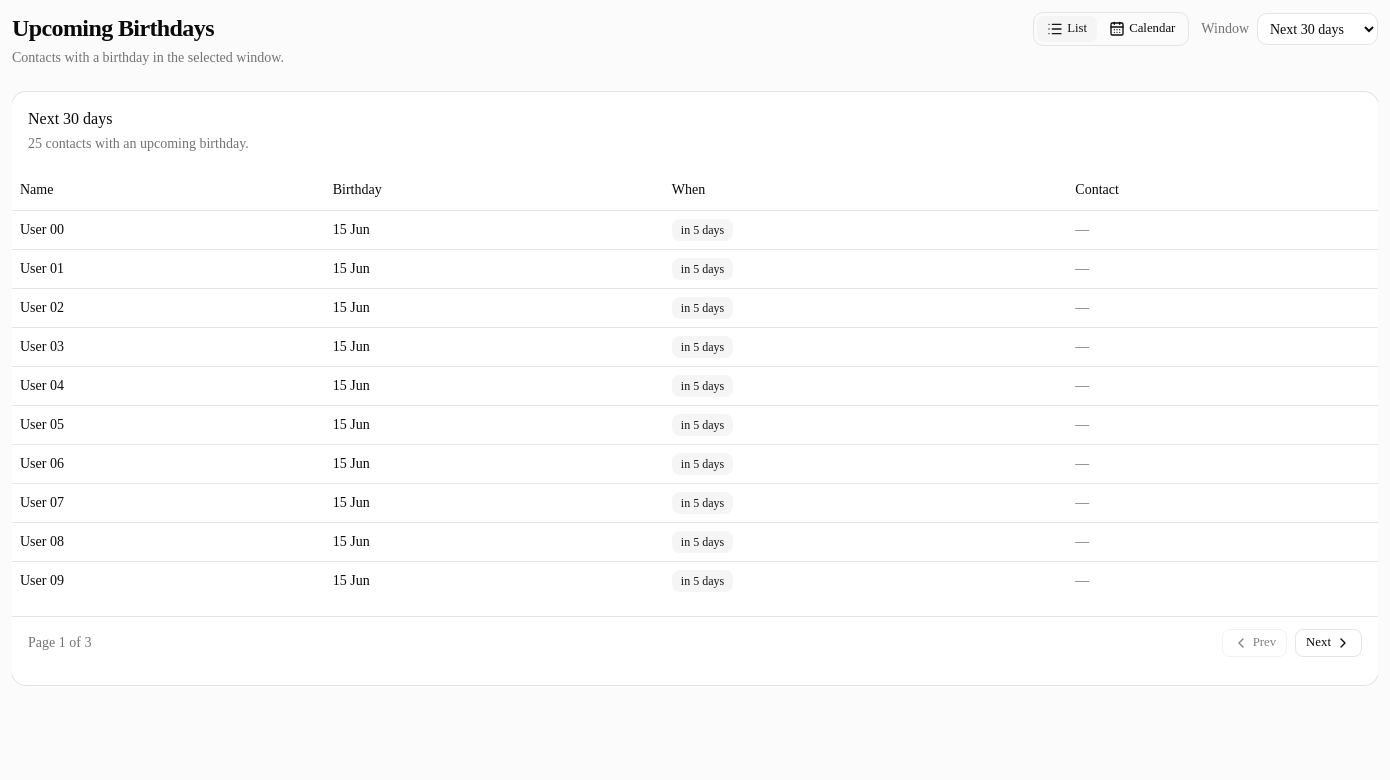
it: HomePage pagination controls › shows 'Page X of Y' and walks through pages via cursor
Expected: the text "Page 1 of 3" is shown, top-left (28, 632), bottom-right (91, 652)
Click the button with aria-label "next page" at [1329, 642], box top-left (1295, 628), bottom-right (1362, 656)
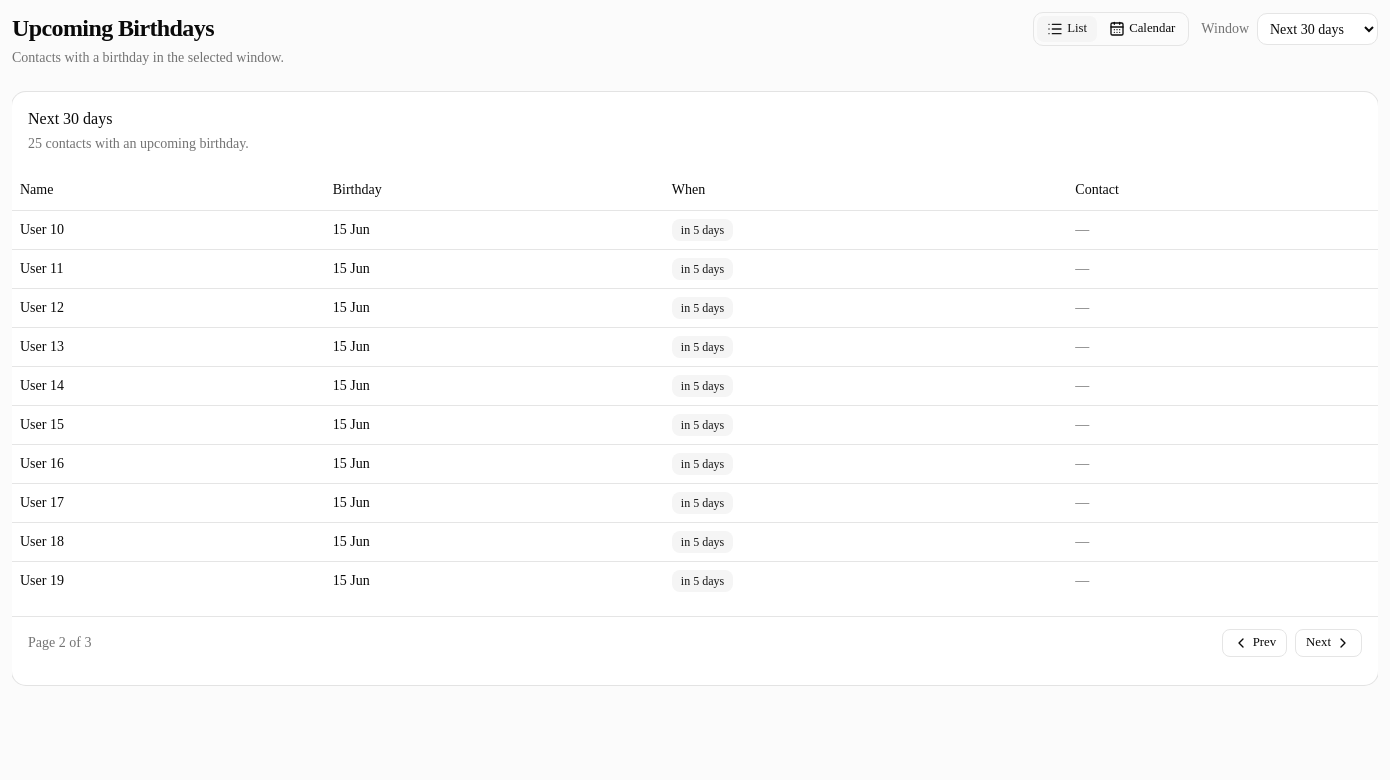
Expected: the text "Page 2 of 3" is shown, top-left (28, 632), bottom-right (91, 652)
Click the button with aria-label "next page" at [1329, 642], box top-left (1295, 628), bottom-right (1362, 656)
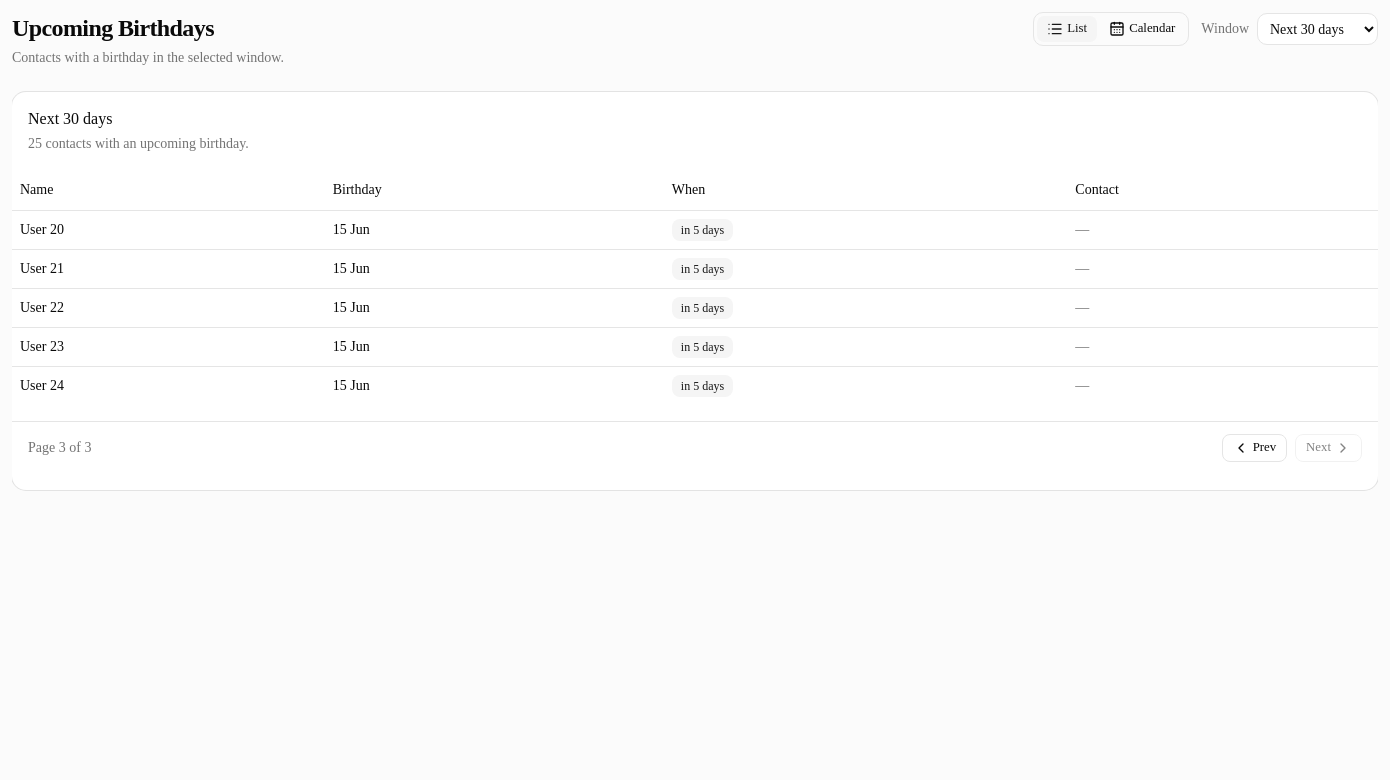
Expected: the text "Page 3 of 3" is shown, top-left (28, 438), bottom-right (91, 458)
Expected: the button with aria-label "next page" is disabled, top-left (1295, 434), bottom-right (1362, 462)
